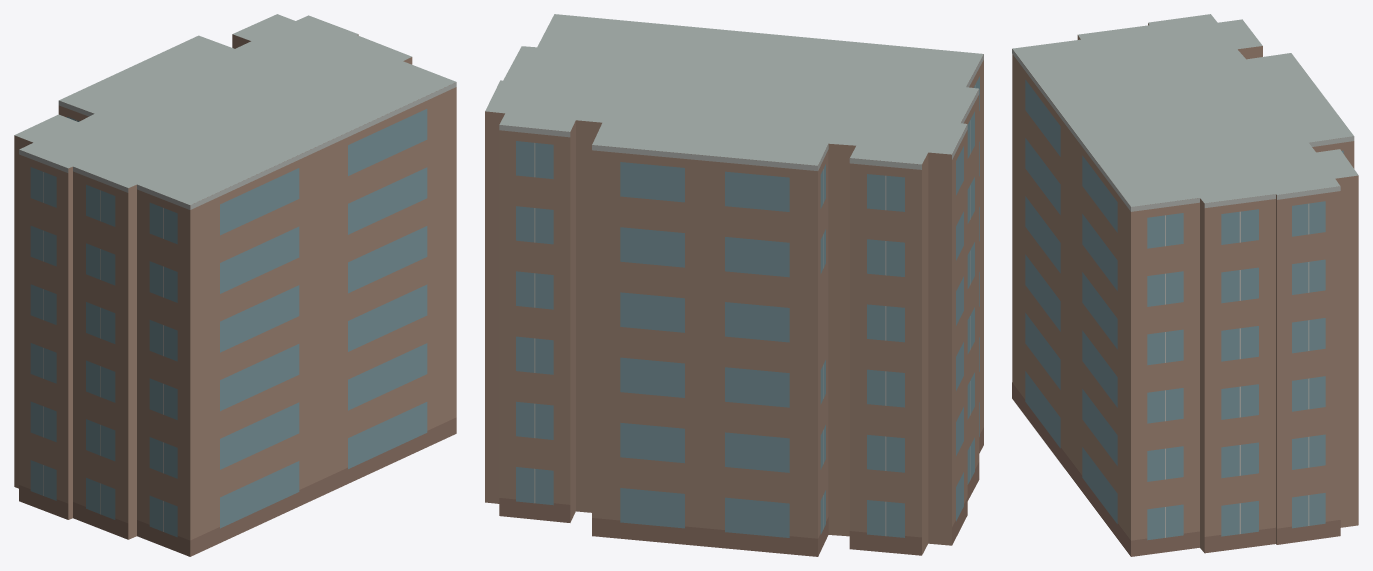
File: survey-upis-32623241.glb
The picture shows the model from 3 angles, left to right: view 1: azimuth 30°, elevation 25°; view 2: azimuth 150°, elevation 25°; view 3: azimuth 270°, elevation 25°; orthographic projection. The views are drawn at different scales.
Parts seen in each view (by area): view 1: survey-upis-32623241.tmp; view 2: survey-upis-32623241.tmp; view 3: survey-upis-32623241.tmp.
Part boxes in pixels (x1=…): survey-upis-32623241.tmp: x1=14, y1=14, x2=456, y2=556; survey-upis-32623241.tmp: x1=485, y1=14, x2=983, y2=556; survey-upis-32623241.tmp: x1=1012, y1=14, x2=1358, y2=556.
Bounding box in the file's own units: 20.71 × 17.5 × 15.72.
